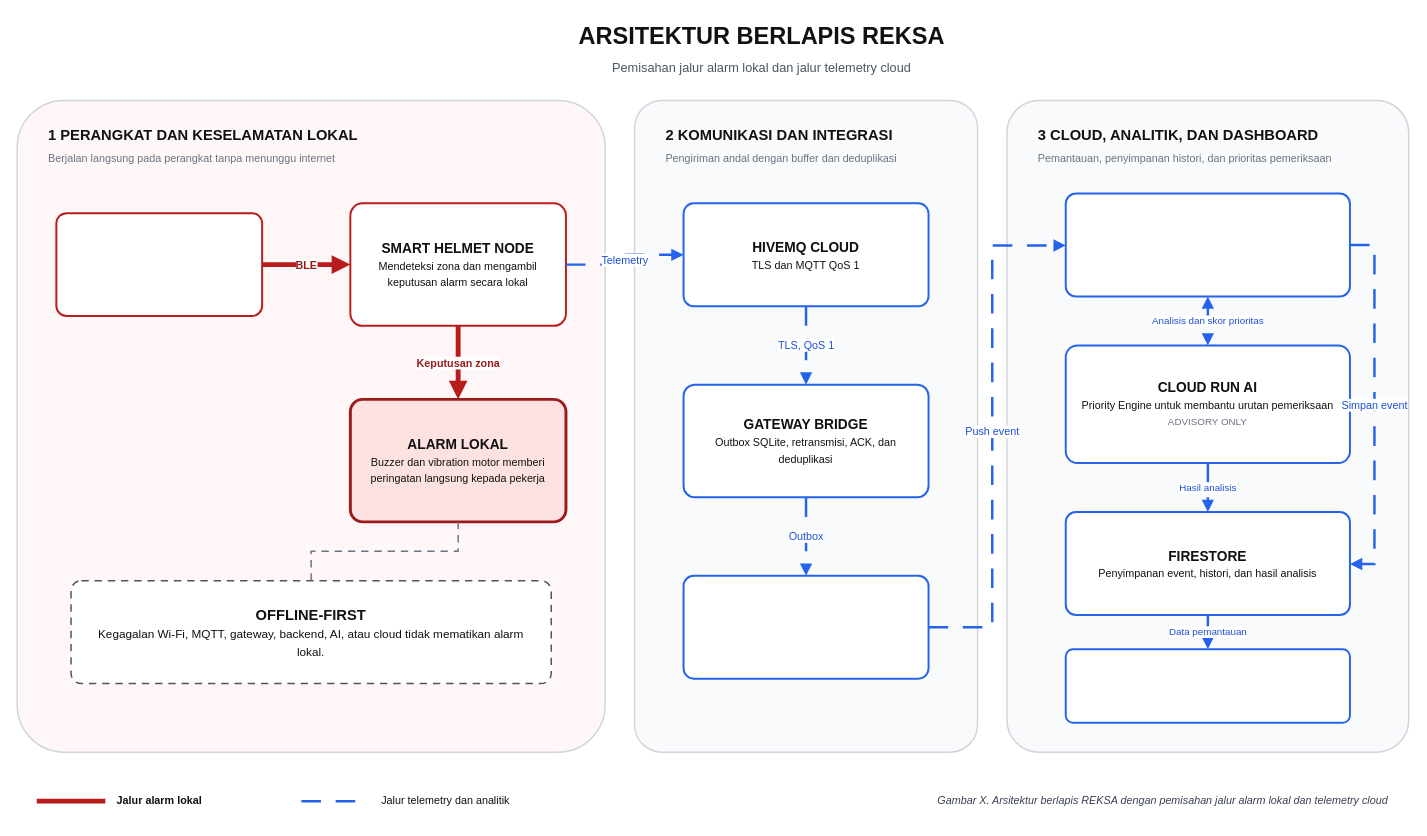
Some shapes in this 1427 by 836 pixel diagram are drawn without their labels. Here are the shapes that lost their labels. From the top down, the box of each, then its label:
(55, 212, 263, 317): ACTIVE HAZARD NODE Memancarkan identitas sumber bahaya melalui BLE
(1064, 192, 1350, 297): CLOUD RUN BACKEND Validasi, pengelolaan event, dan API
(682, 574, 929, 679): GOOGLE CLOUD PUB/SUB Distribusi telemetry menuju backend
(1064, 648, 1350, 723): FIREBASE DASHBOARD Pemantauan dan verifikasi oleh supervisor K3
